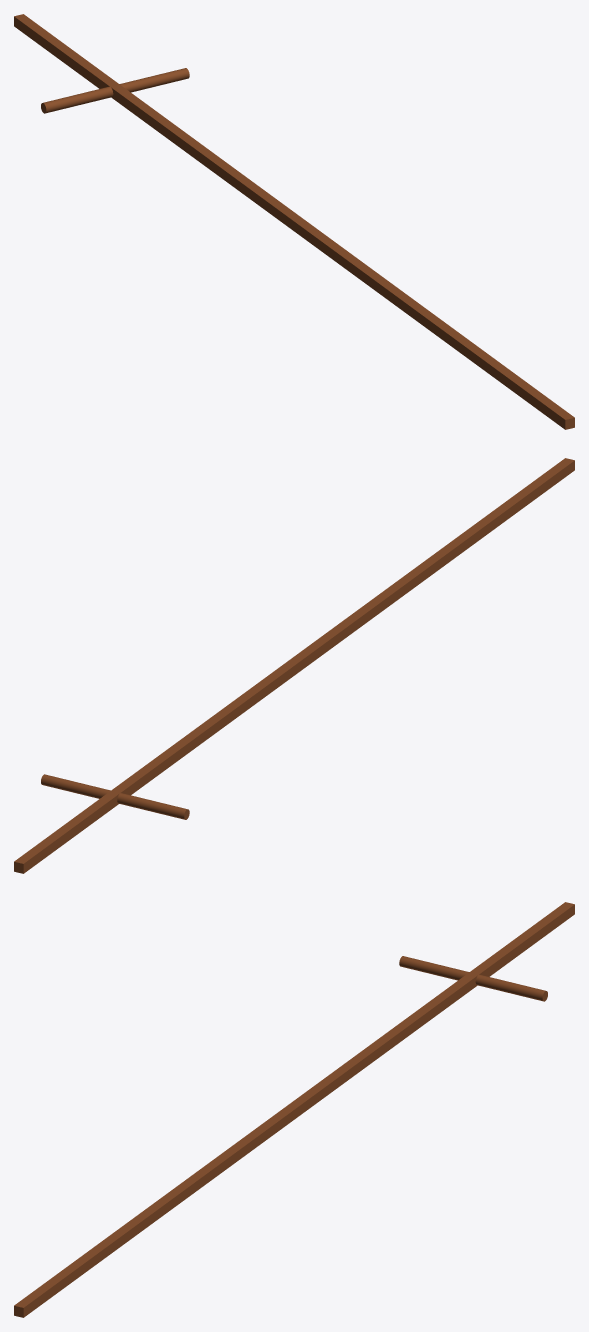
The model's file is FishingRod.fbx.
The picture shows the model from 3 angles, top to bottom: view 1: azimuth 30°, elevation 25°; view 2: azimuth 150°, elevation 25°; view 3: azimuth 330°, elevation 25°; orthographic projection.
Parts seen in each view (by area): view 1: Rod, Handle; view 2: Rod, Handle; view 3: Rod, Handle.
Boxes of the visible parts, bbox=[...] form: Rod: bbox=[14, 14, 574, 429]; Handle: bbox=[41, 68, 189, 113]; Rod: bbox=[14, 458, 574, 873]; Handle: bbox=[41, 774, 189, 819]; Rod: bbox=[14, 902, 574, 1317]; Handle: bbox=[399, 956, 547, 1001].
Bounding box in the file's own units: 75 × 5 × 500.
